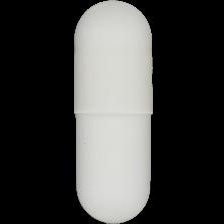54868-3113: (0, 0, 224, 224)
